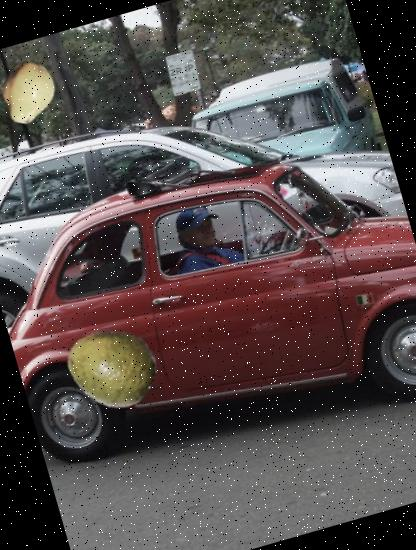Guava: (54, 310, 166, 421)
Quince: (0, 51, 68, 131)
